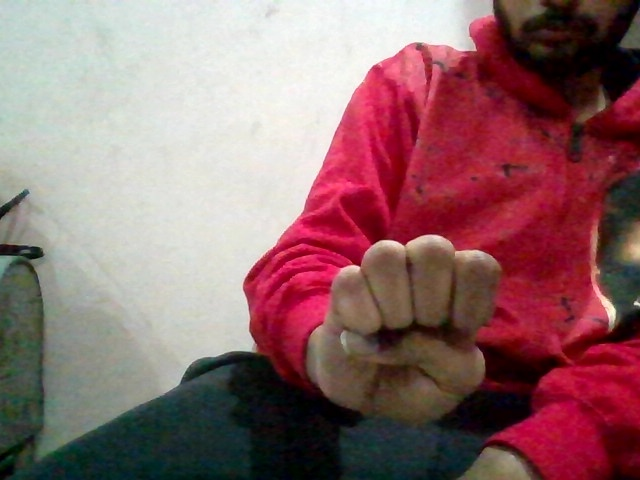E: (296, 229, 510, 435)
